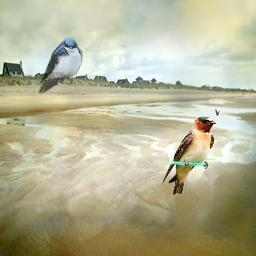Swallow: (161, 116, 216, 195), (37, 37, 83, 94)
